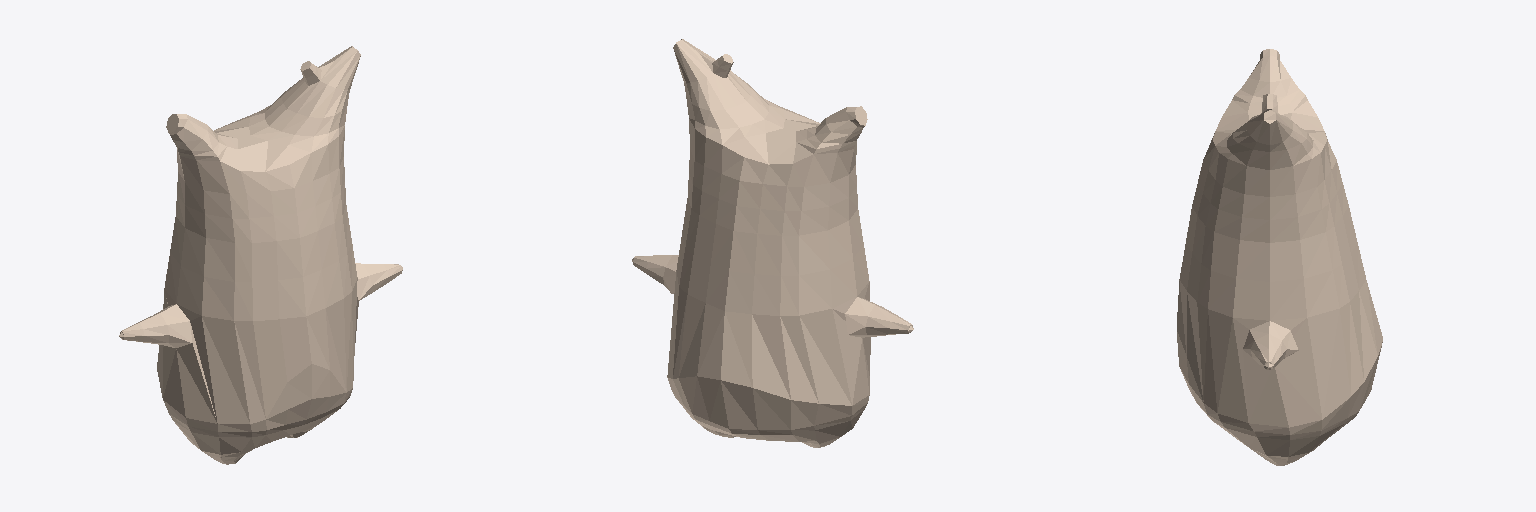
Rendered from frame_0004.obj.
3 views of the same model, side by side, from view 1: azimuth 30°, elevation 25°; view 2: azimuth 150°, elevation 25°; view 3: azimuth 270°, elevation 25° (orthographic).
Parts seen in each view (by area): view 1: korok; view 2: korok; view 3: korok.
Boxes of the visible parts, <box> form: korok: <box>119,46,402,464</box>; korok: <box>632,39,913,447</box>; korok: <box>1177,49,1382,465</box>.
Size of the model in its own units: 1.68 by 2.16 by 1.06.